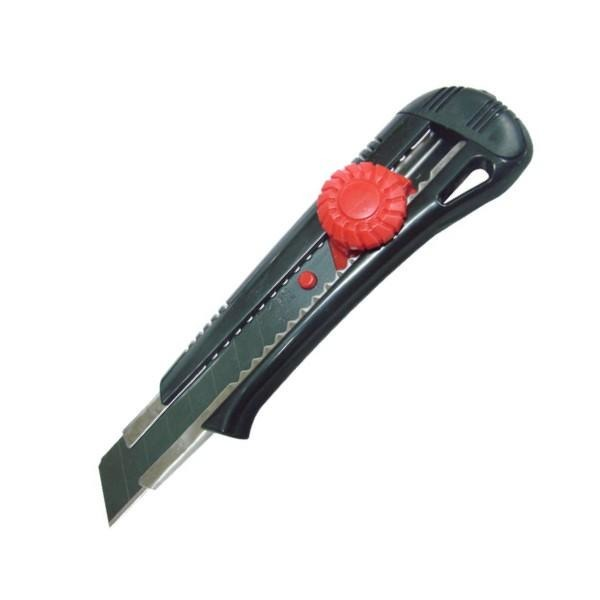cutter: (98, 85, 536, 529)
